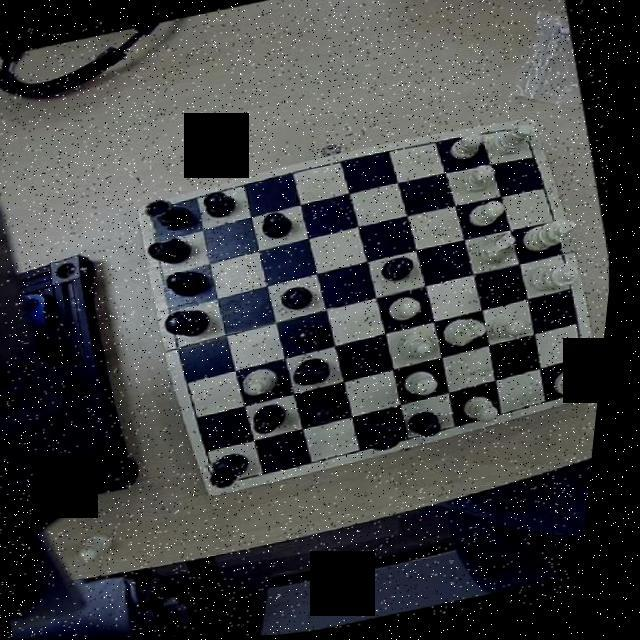chess-table-corners: (209, 457, 251, 495), (142, 199, 180, 235), (568, 370, 608, 404), (504, 118, 542, 148)
